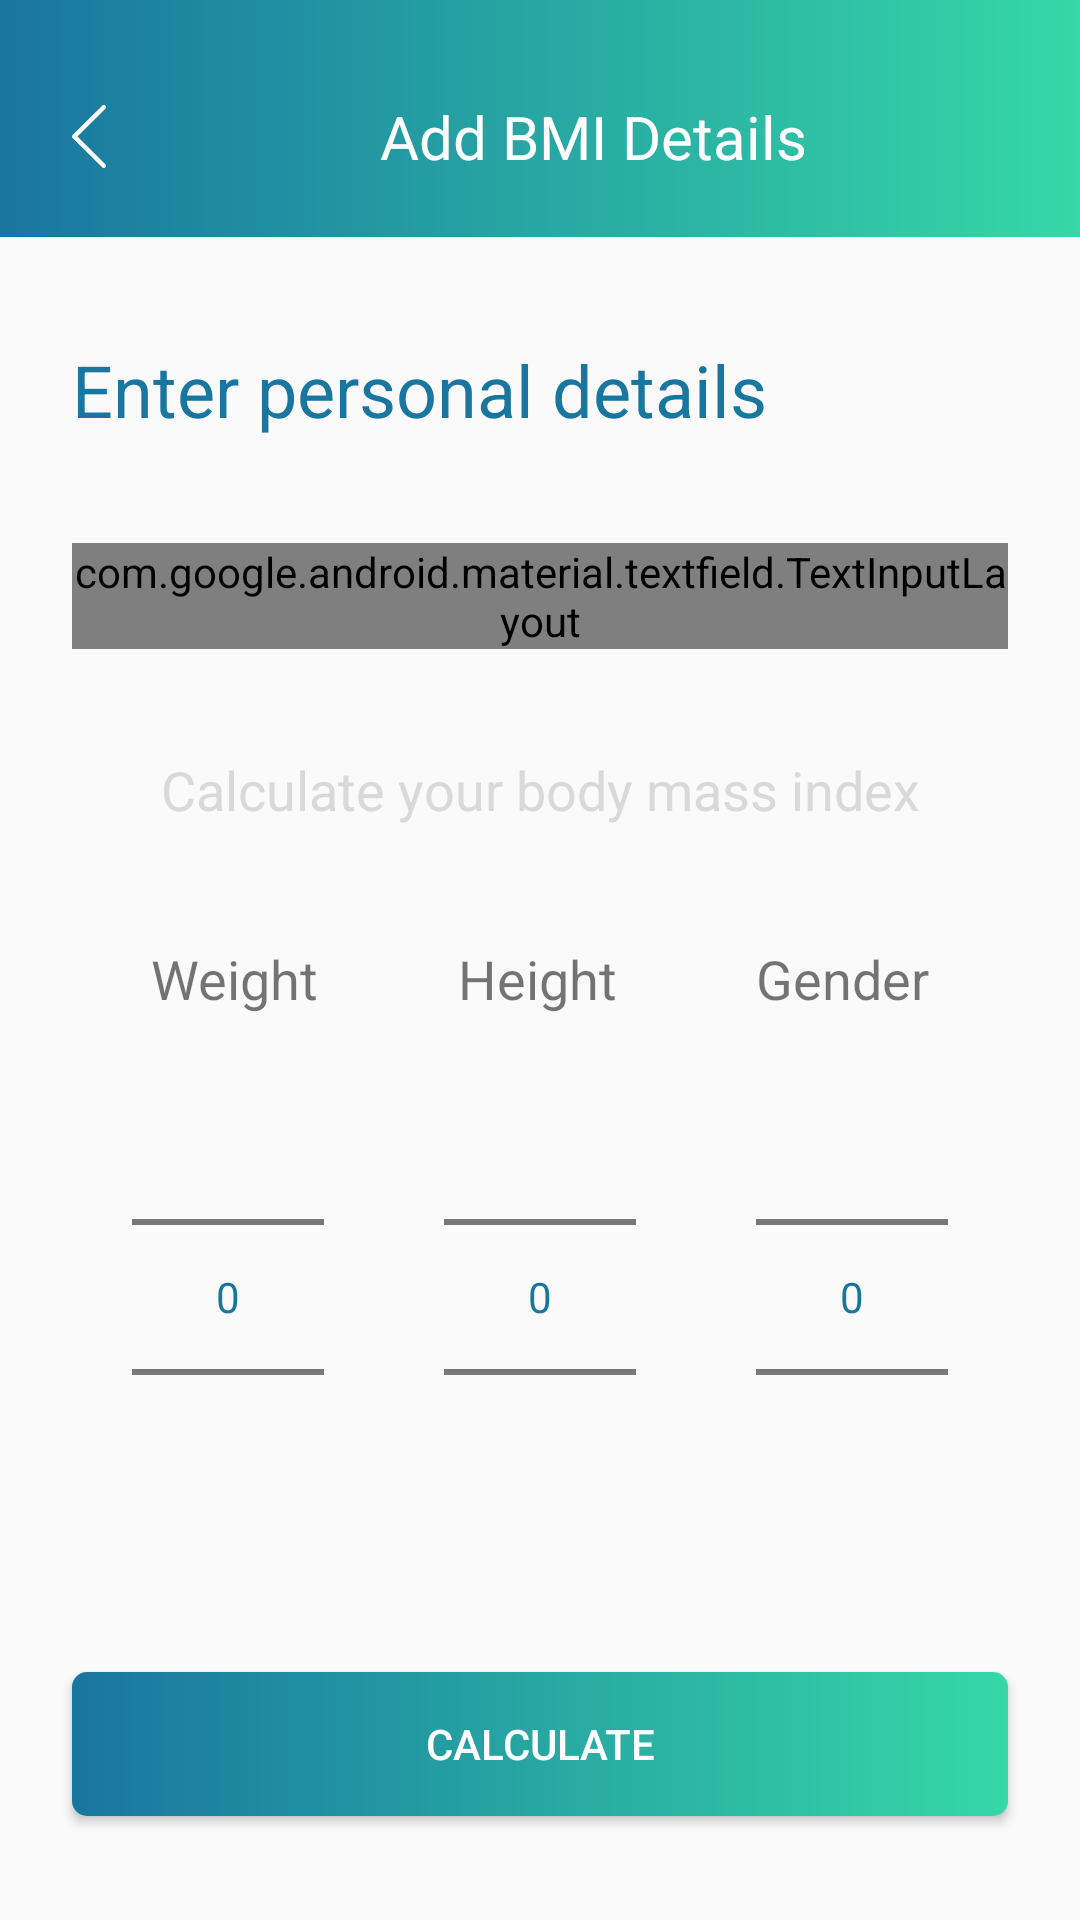

Icon click points for this 1080px x 1920px phone screenshot, format (x,y):
left arrow: (89,136)
